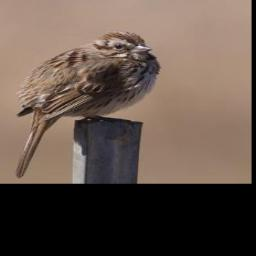Sparrow: (13, 30, 162, 180)
